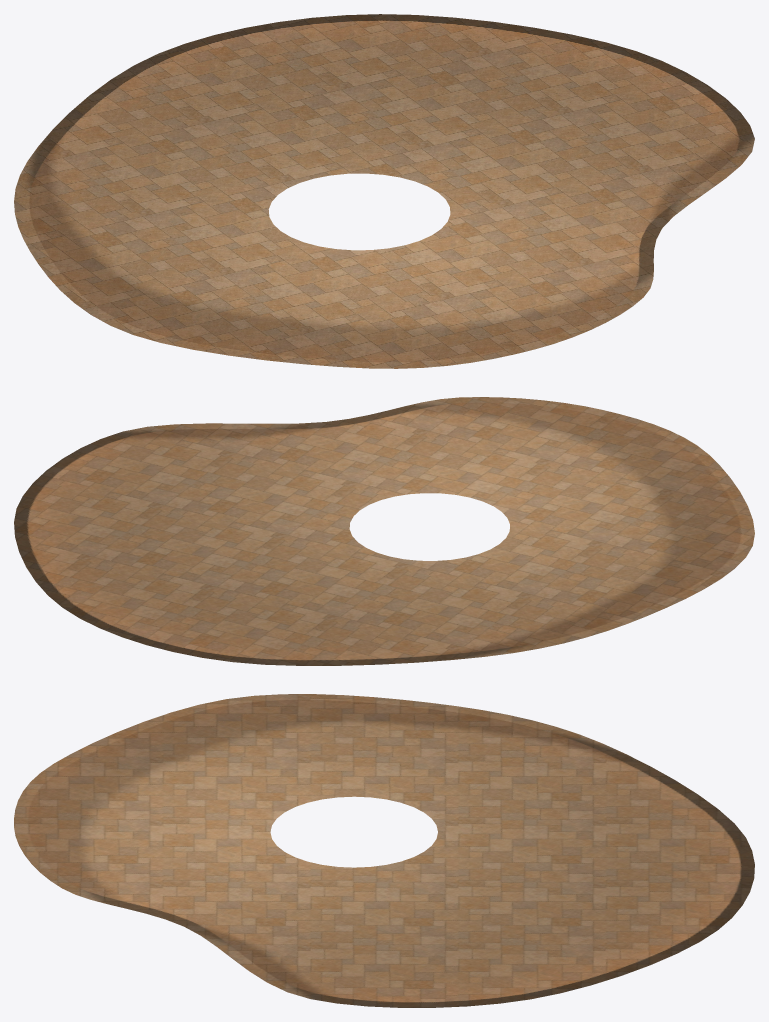
The model's file is solo-suelo-pista-agua.glb.
The picture shows the model from 3 angles, top to bottom: view 1: azimuth 30°, elevation 25°; view 2: azimuth 150°, elevation 25°; view 3: azimuth 270°, elevation 25°; orthographic projection. The views are drawn at different scales.
Parts seen in each view (by area): view 1: suelo-exterior; view 2: suelo-exterior; view 3: suelo-exterior.
Part boxes in pixels (x1,y1,x2,y2): suelo-exterior: [14, 14, 754, 368]; suelo-exterior: [14, 397, 754, 665]; suelo-exterior: [14, 694, 754, 1007].
Size of the model in its own units: 9.27 by 0 by 9.25.
1 material, 1 textured.
